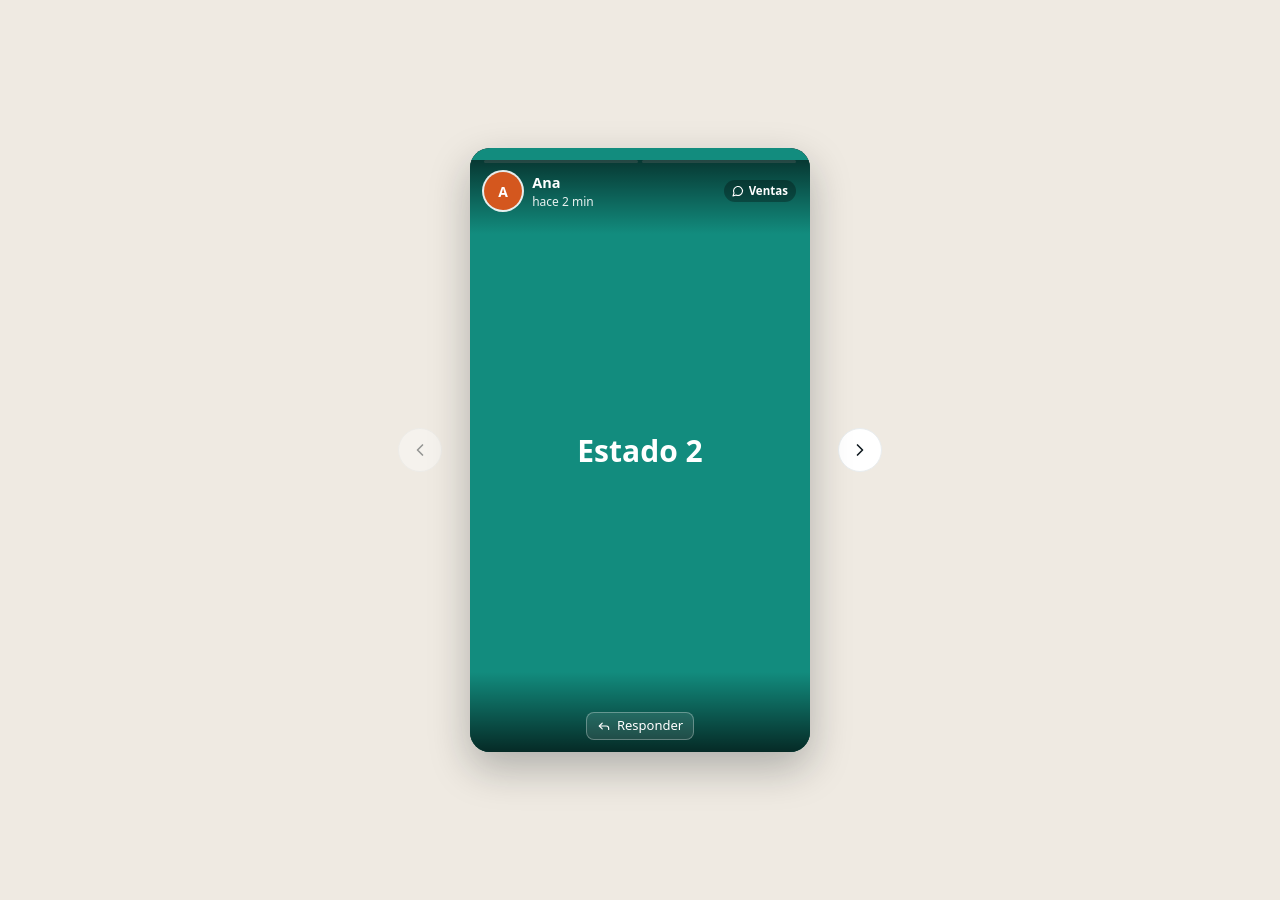
Test: StoryViewer · en línea y varias cuentas › pide, marca visto y reacciona con la cuenta de cada autor y sus capacidades
Later steps or results of the test are not shown.
Click the button named "Autor siguiente" at [860, 450], box [838,428,882,472]
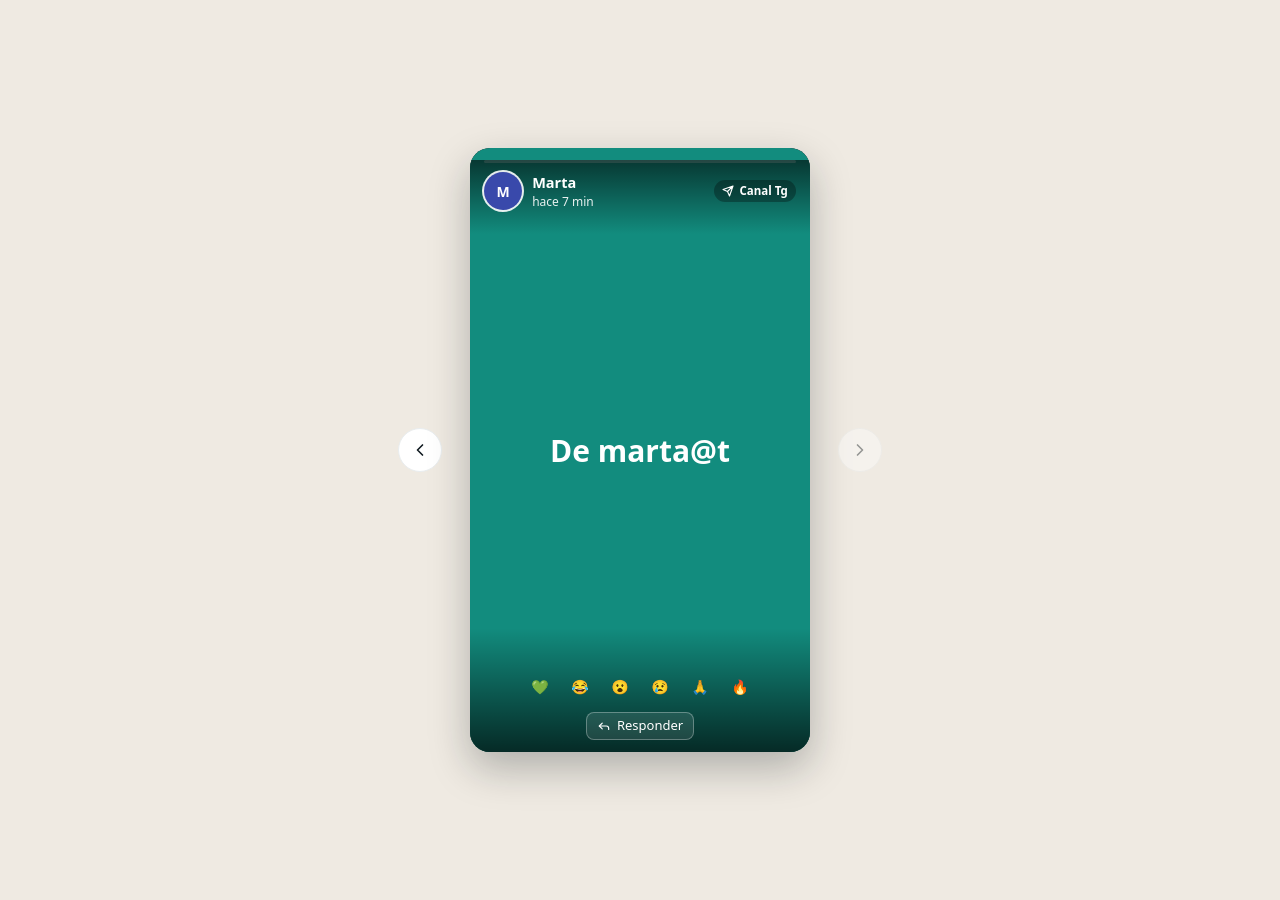
Expected: the element with test id "story-account" reads "Canal Tg", [740,183,788,198]
